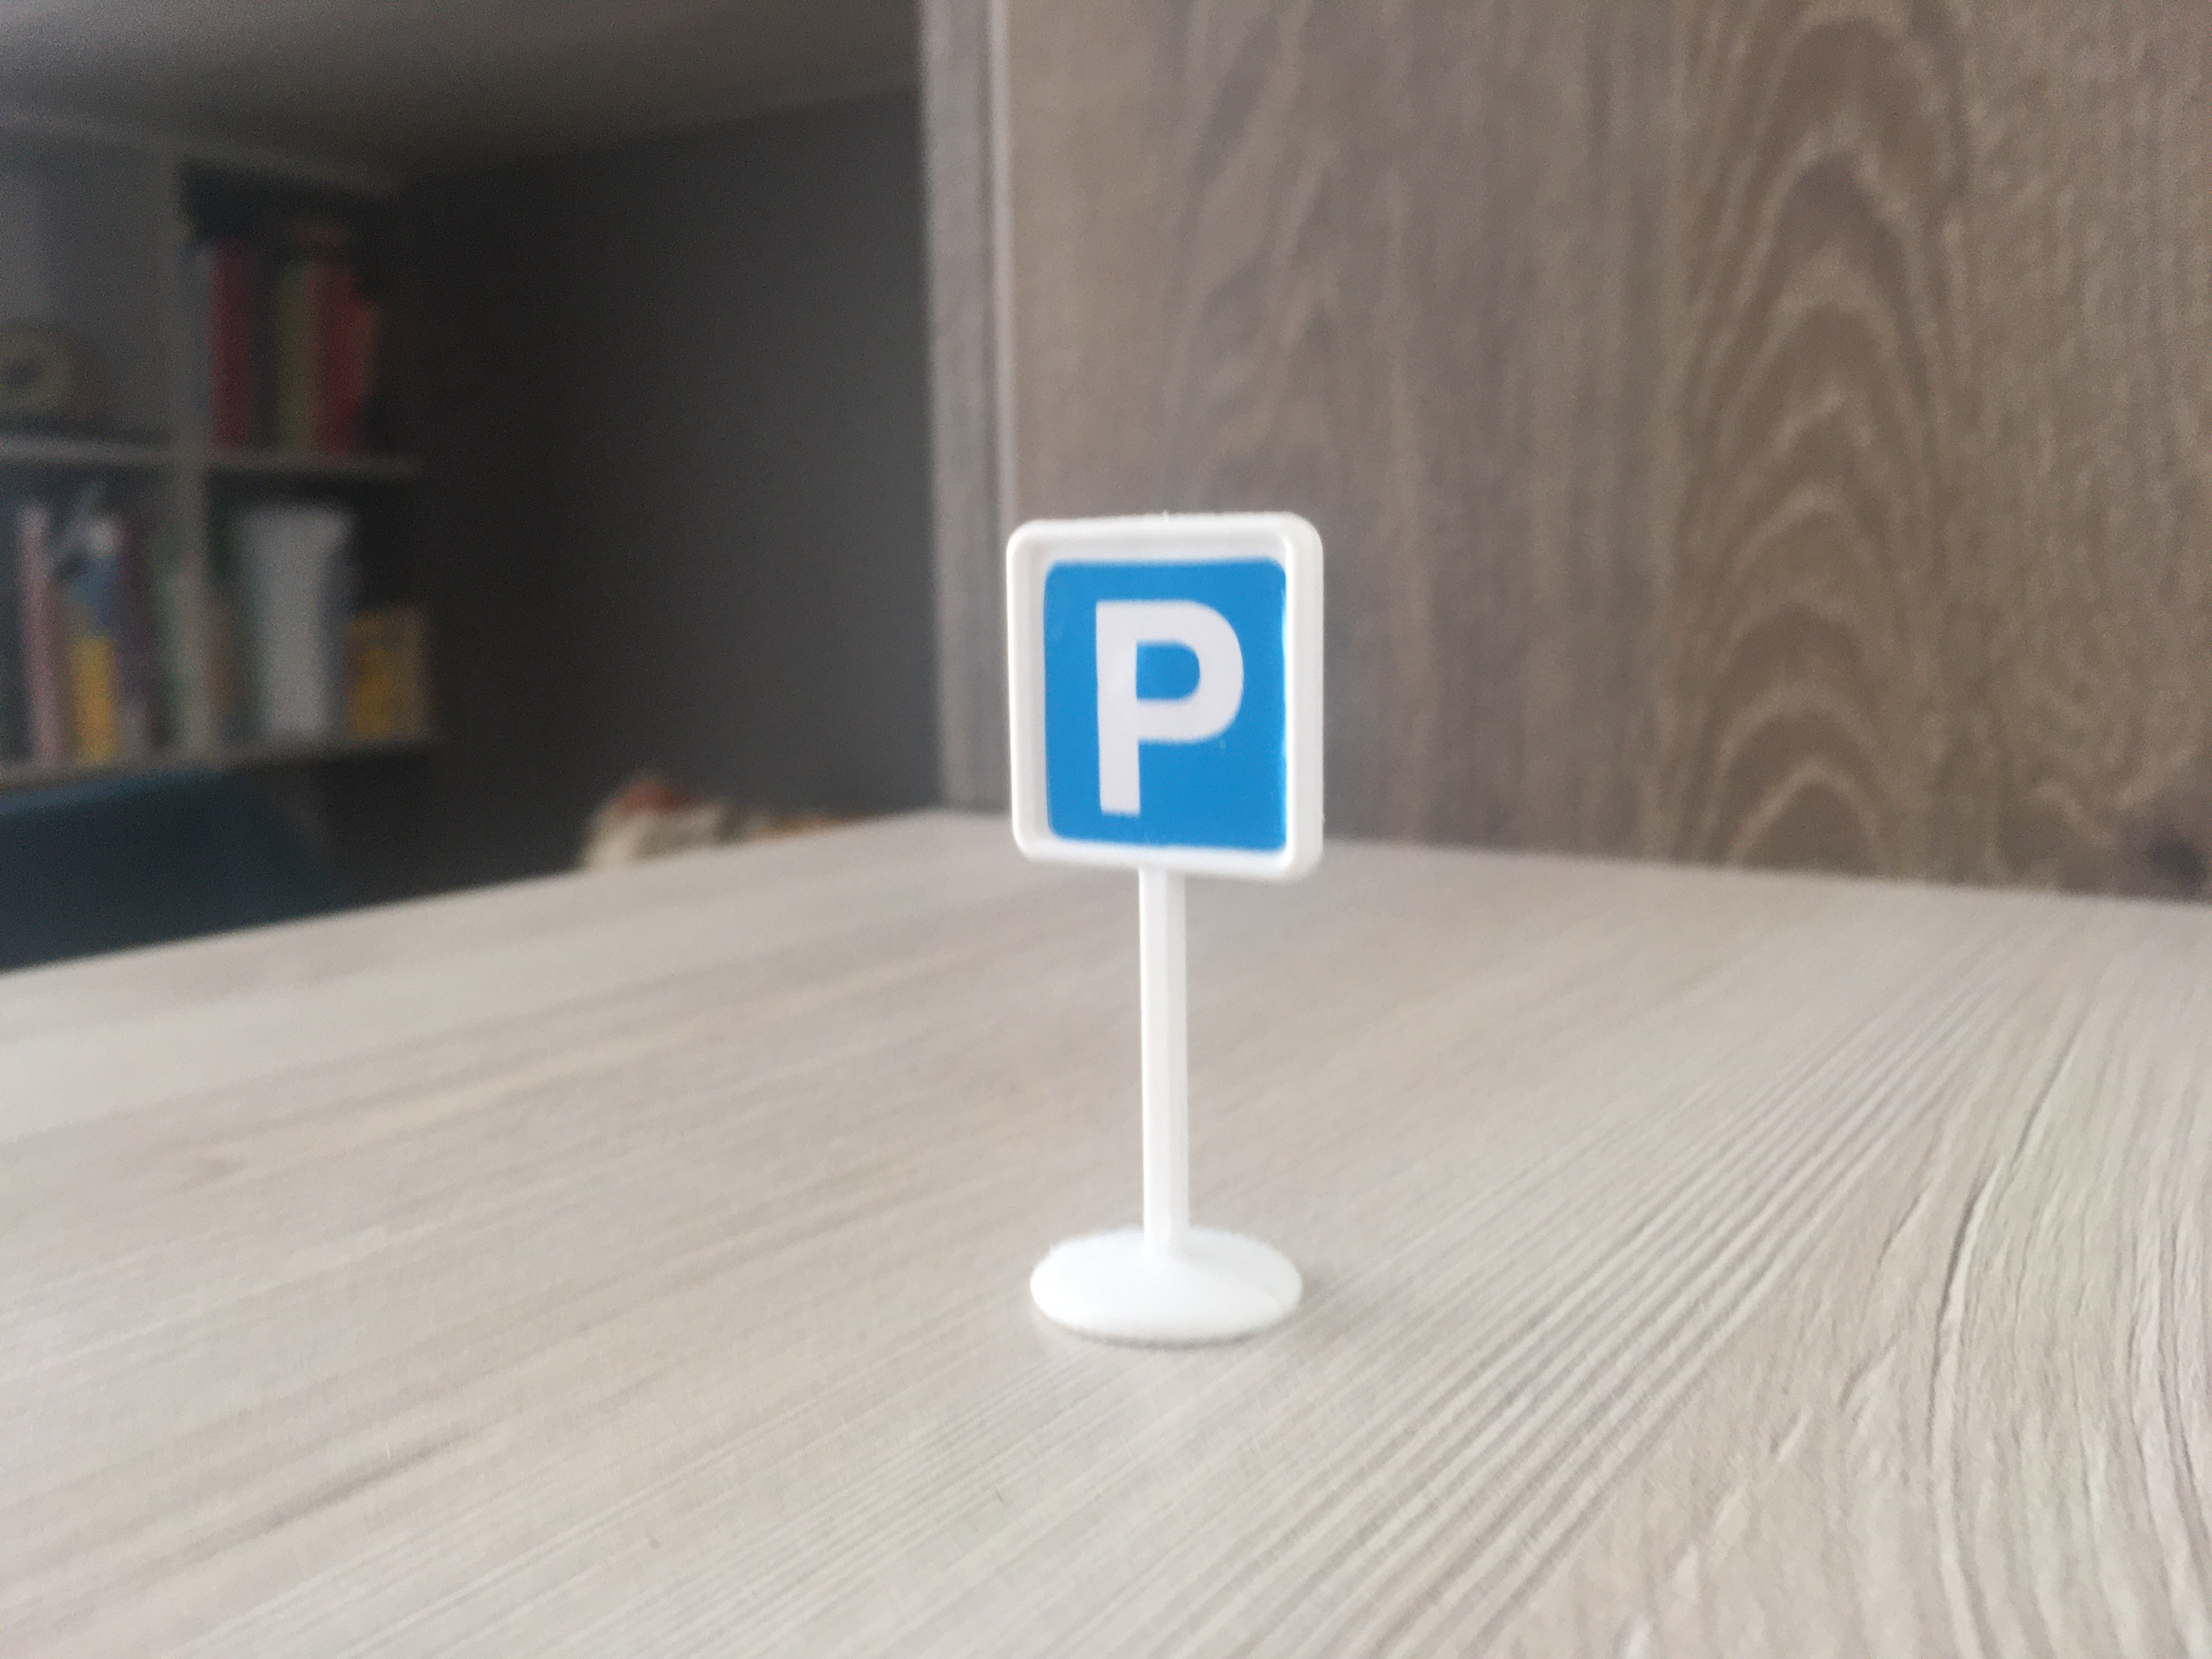parking: (1000, 509, 1329, 885)
